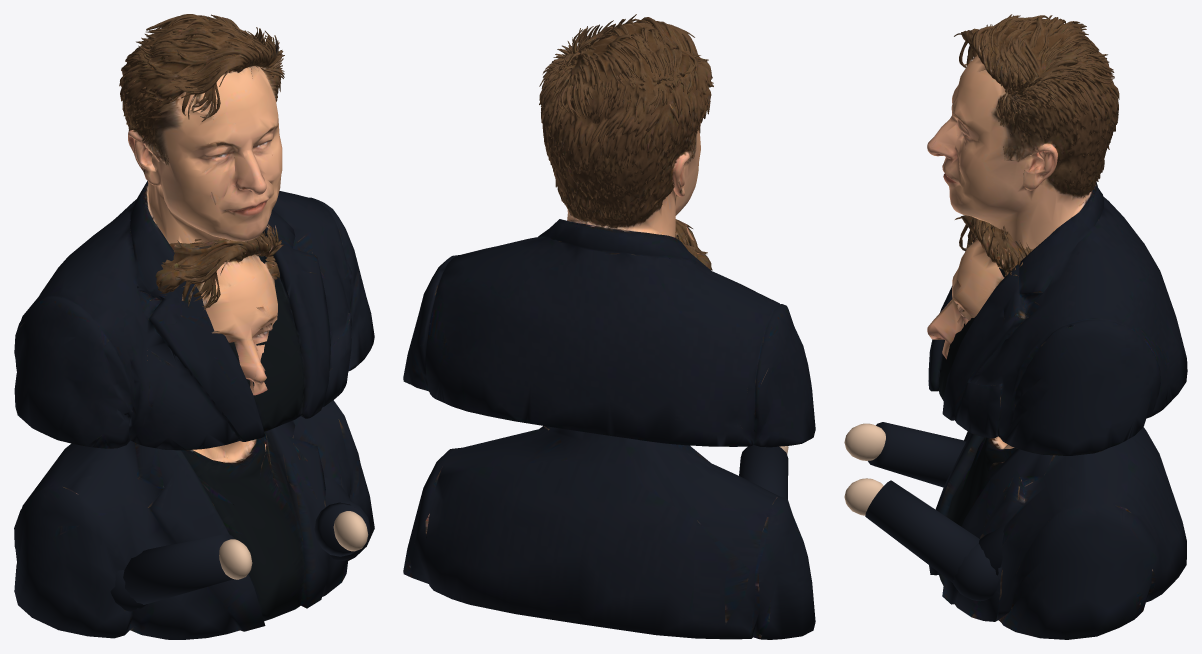
File: elon-runtime.glb
3 renders of one model, left to right at view 1: azimuth 30°, elevation 25°; view 2: azimuth 150°, elevation 25°; view 3: azimuth 270°, elevation 25°, orthographic. The views are drawn at different scales.
Visible parts, largest first — view 1: elon / portrait sculpture, elon / driving sculpture, elon / driving sleeves, elon / driving hands; view 2: elon / portrait sculpture, elon / driving sculpture, elon / driving sleeves; view 3: elon / portrait sculpture, elon / driving sculpture, elon / driving sleeves, elon / driving hands.
Part boxes in pixels (left/top/right/bottom): elon / portrait sculpture: left=14, top=14, right=374, bottom=450; elon / driving sculpture: left=14, top=224, right=374, bottom=639; elon / driving sleeves: left=110, top=477, right=370, bottom=611; elon / driving hands: left=219, top=511, right=368, bottom=579; elon / portrait sculpture: left=403, top=14, right=815, bottom=447; elon / driving sculpture: left=403, top=219, right=815, bottom=639; elon / driving sleeves: left=739, top=445, right=788, bottom=498; elon / portrait sculpture: left=927, top=14, right=1187, bottom=455; elon / driving sculpture: left=927, top=215, right=1186, bottom=639; elon / driving sleeves: left=865, top=422, right=1006, bottom=601; elon / driving hands: left=844, top=423, right=885, bottom=515.
Size of the model in its own units: 1.01 by 1.5 by 0.8463.
3 materials, 1 textured.
